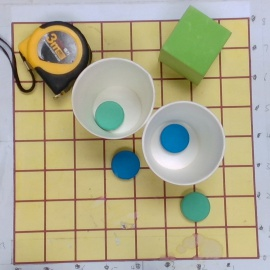blue: (111, 150, 141, 180)
cup_blue: (142, 101, 227, 187)
cup_green: (72, 56, 155, 141)
green: (180, 192, 210, 222)
